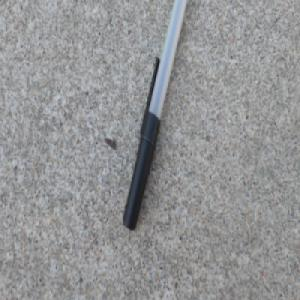Pen: (121, 0, 190, 232)
